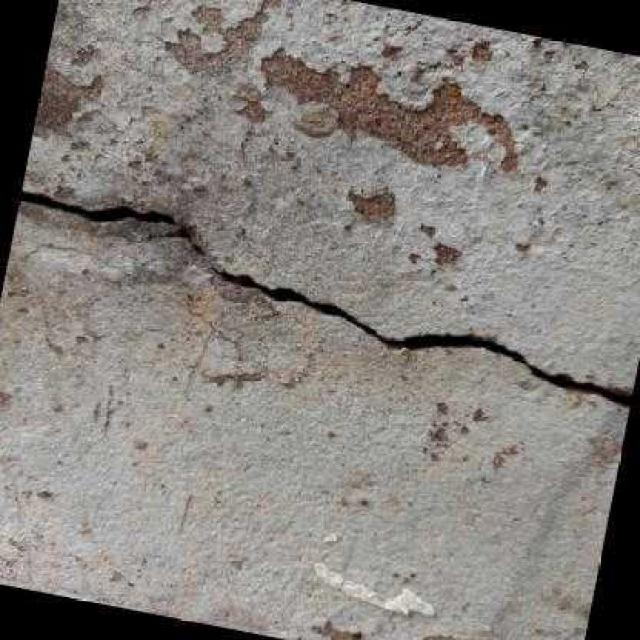D00: (205, 262, 634, 410), (19, 187, 207, 256)
